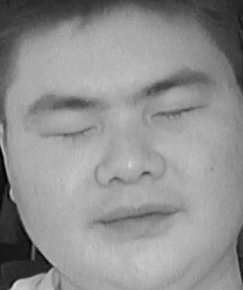blink: (152, 96, 204, 131), (48, 113, 97, 147)
mouth: (90, 195, 189, 245)
